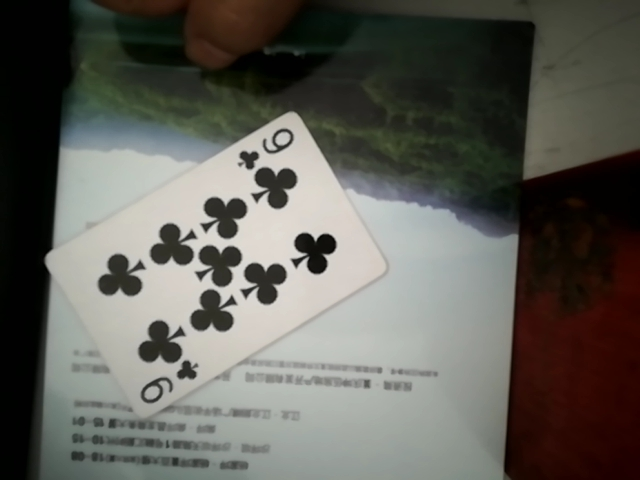mh 9: (61, 107, 379, 406)
